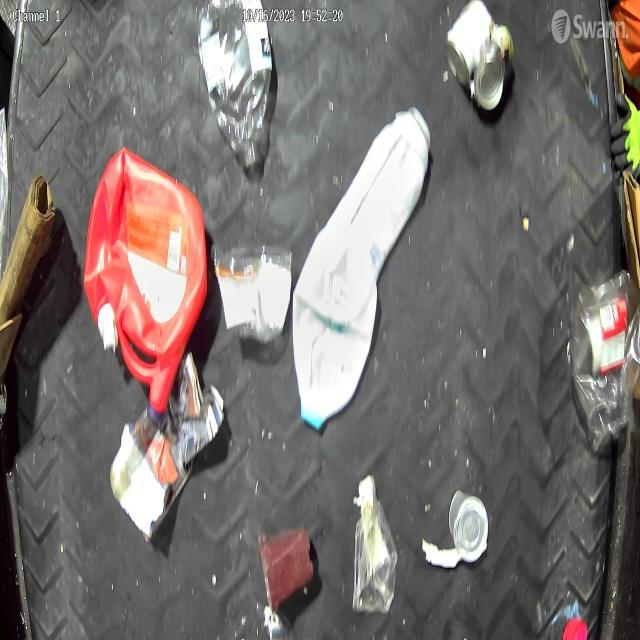can: (442, 0, 515, 117), (445, 478, 490, 568)
milk_jug: (292, 217, 382, 432)
non_white_jug: (79, 144, 206, 425)
plastic_bottle: (194, 0, 276, 174)
